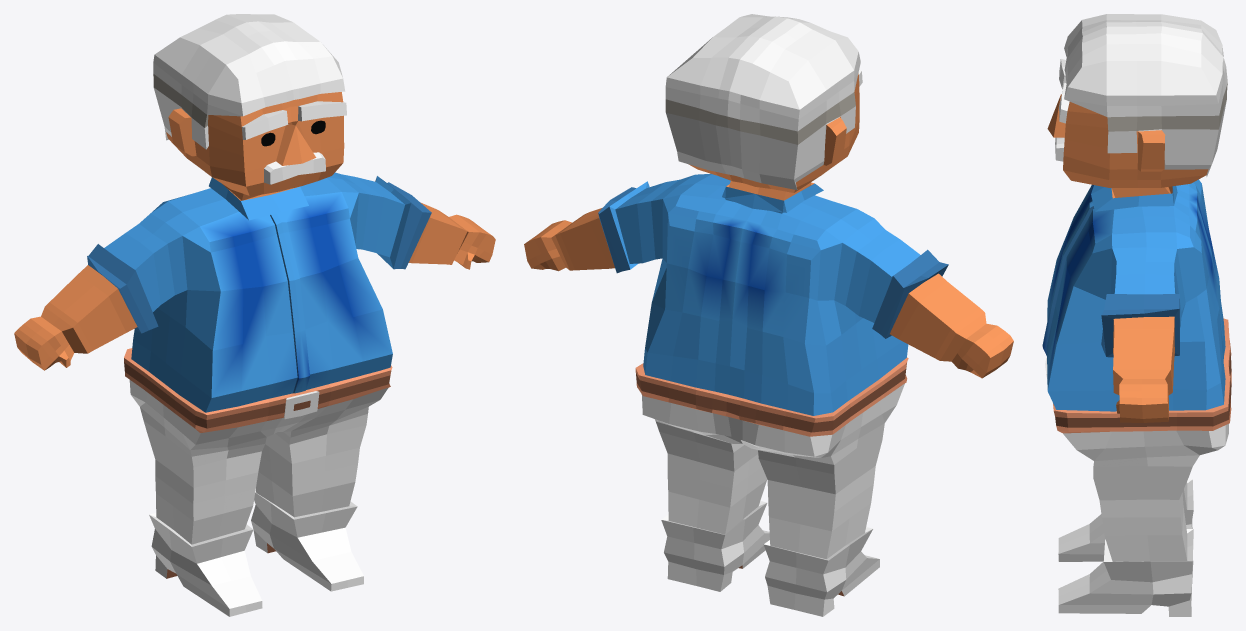
File: huaso.fbx
The picture shows the model from 3 angles, left to right: view 1: azimuth 30°, elevation 25°; view 2: azimuth 150°, elevation 25°; view 3: azimuth 270°, elevation 25°; orthographic projection. The views are drawn at different scales.
Visible parts, largest first — view 1: Cube.001; view 2: Cube.001; view 3: Cube.001.
Part boxes in pixels (left/top/right/bottom): Cube.001: left=14, top=14, right=495, bottom=616; Cube.001: left=524, top=14, right=1013, bottom=616; Cube.001: left=1042, top=14, right=1231, bottom=616.
Size of the model in its own units: 166 by 186 by 57.75.
